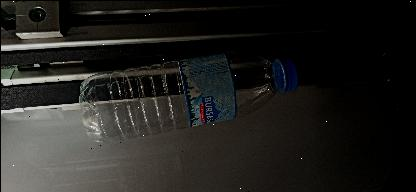Plastic Bottle: (78, 50, 296, 142)
